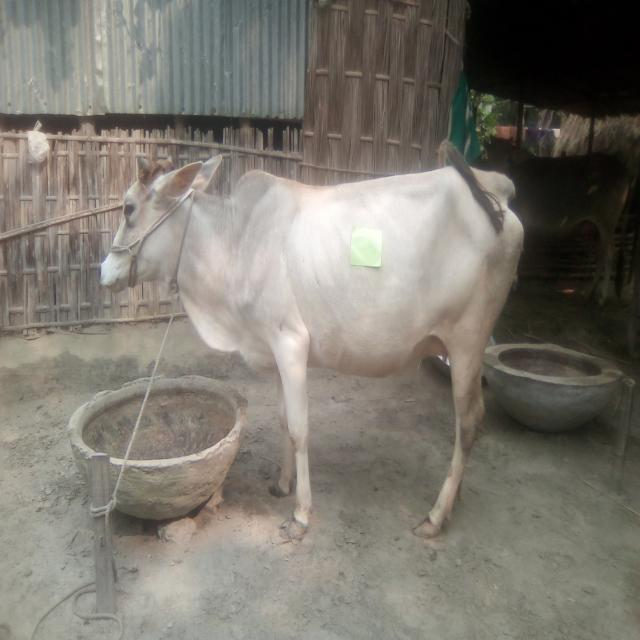badan_sapi: (248, 173, 526, 378)
sapi: (90, 138, 532, 548)
